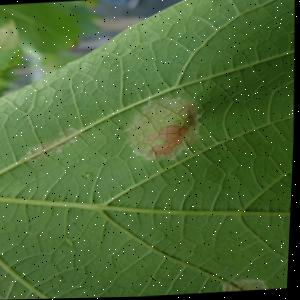Folha: (0, 0, 300, 300)
Fungo: (121, 96, 206, 166), (21, 128, 81, 163), (145, 126, 189, 157), (81, 173, 94, 181)
